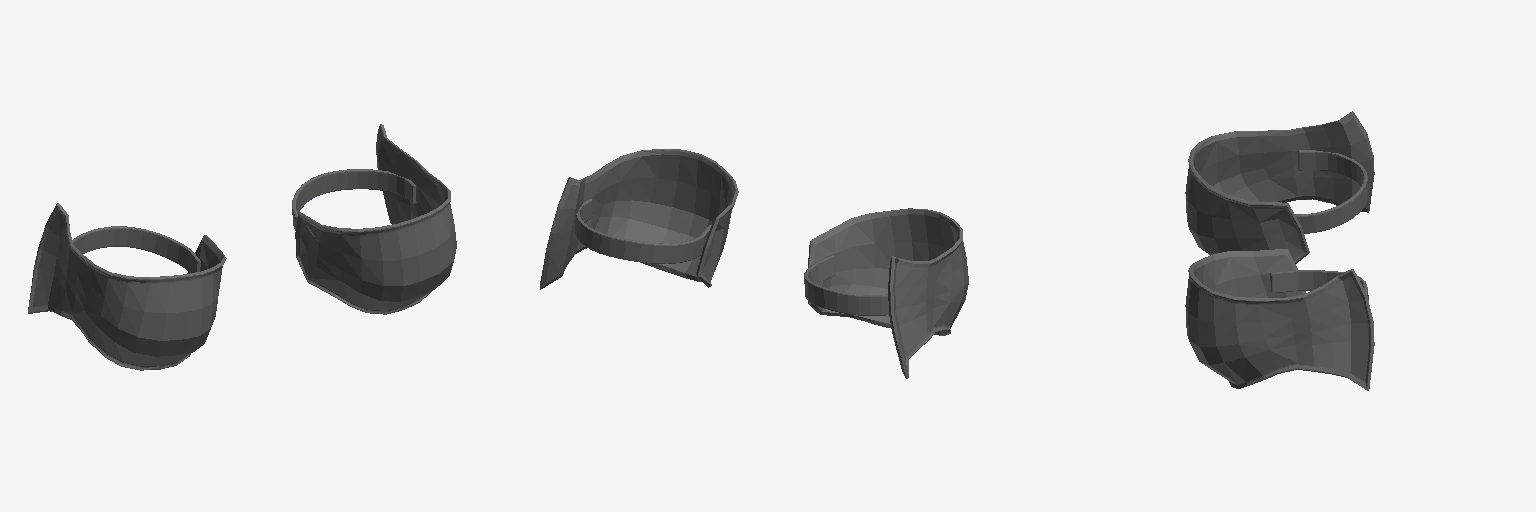
Rendered from Eiropa_obichnie.obj.
3 renders of one model, left to right at view 1: azimuth 30°, elevation 25°; view 2: azimuth 150°, elevation 25°; view 3: azimuth 270°, elevation 25°, orthographic.
Visible parts, largest first — view 1: Object005; view 2: Object005; view 3: Object005.
Boxes of the visible parts, x1,y1,x2,y2 form: Object005: [28, 124, 456, 370]; Object005: [540, 149, 968, 378]; Object005: [1185, 111, 1374, 390].
Bounding box in the file's own units: 439 × 150 × 194.